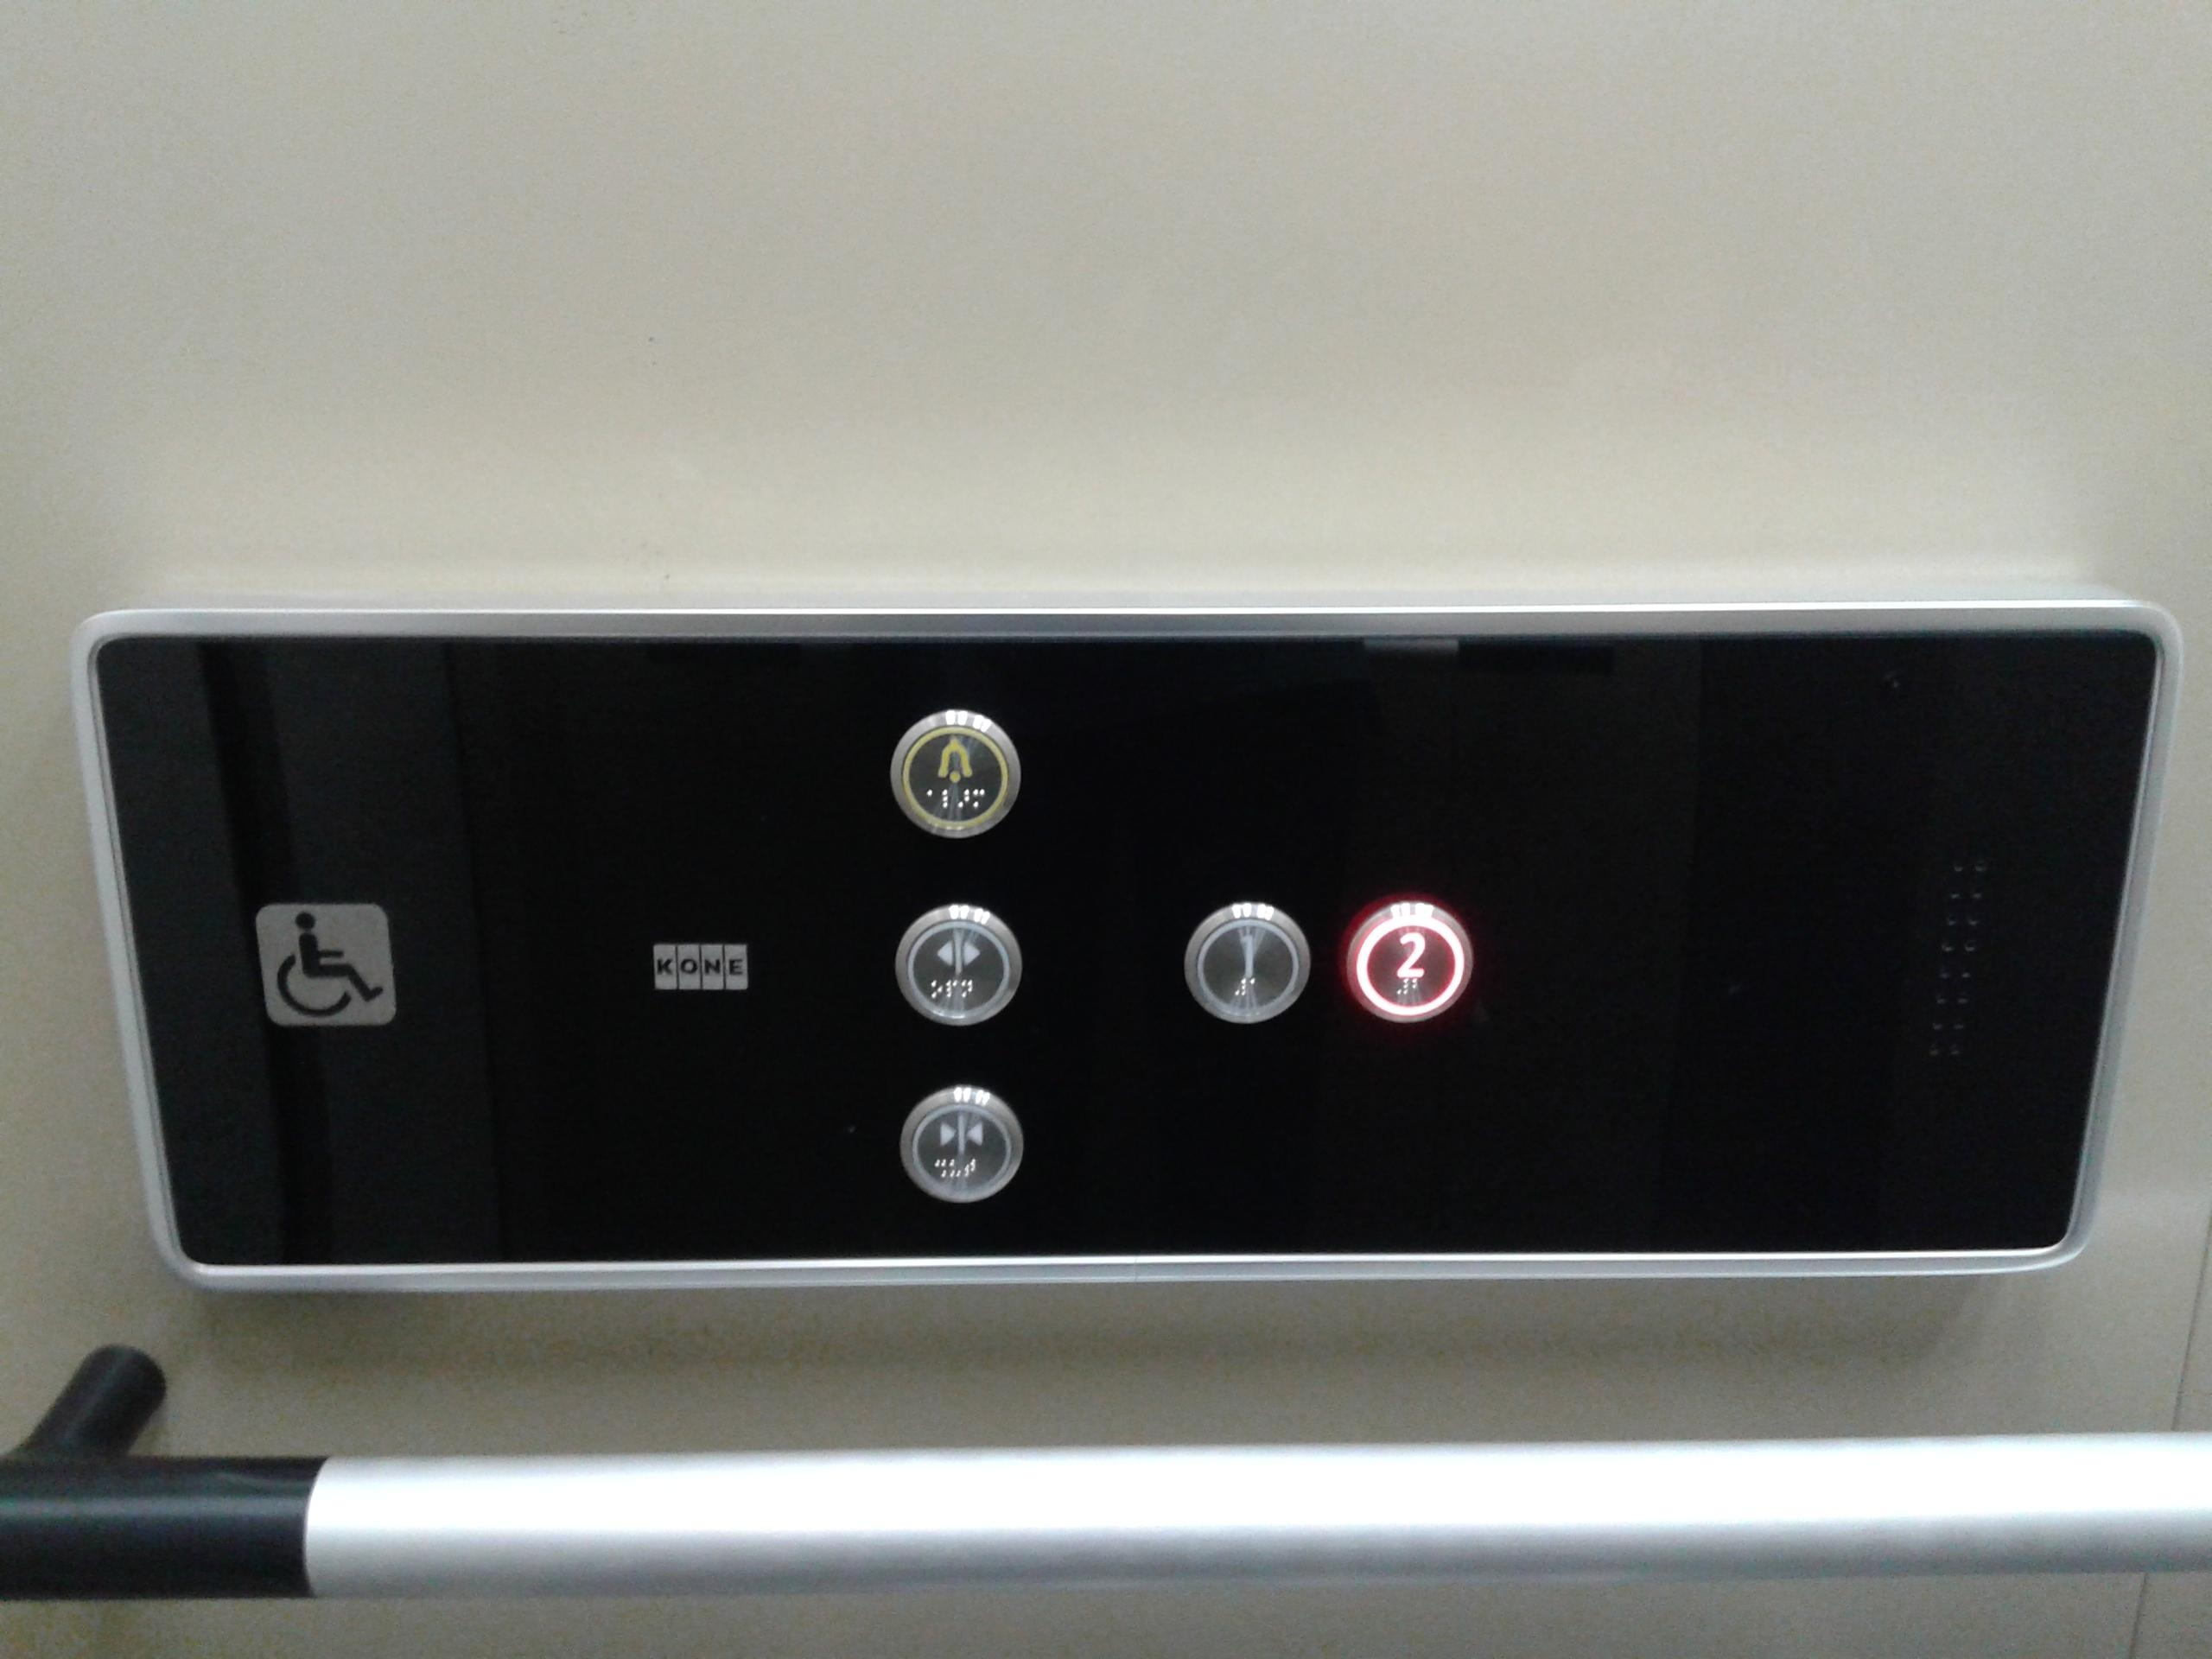1: (1179, 896, 1320, 1028)
2: (1336, 894, 1477, 1028)
CH: (253, 897, 402, 1033)
alarm: (883, 704, 1024, 842)
close: (894, 1079, 1028, 1209)
open: (892, 897, 1028, 1032)
